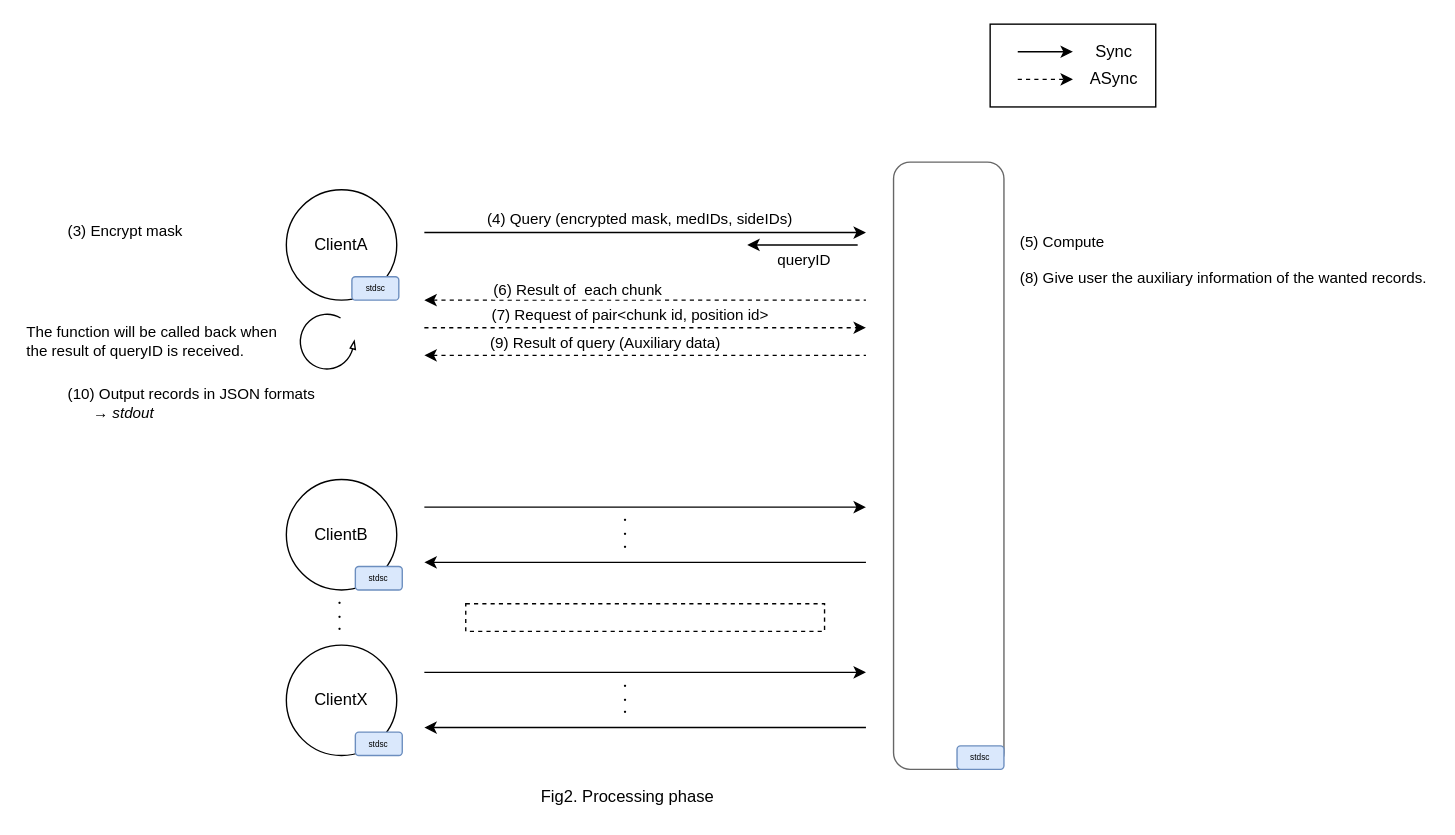
The diagram is 1455 pixels wide and 835 high, and some of its shapes have lost their labels. Each missing label, with the box of its shape:
Handle connections from multiple clients in parallel.: (464, 602, 825, 631)
Server: (892, 161, 1004, 769)
